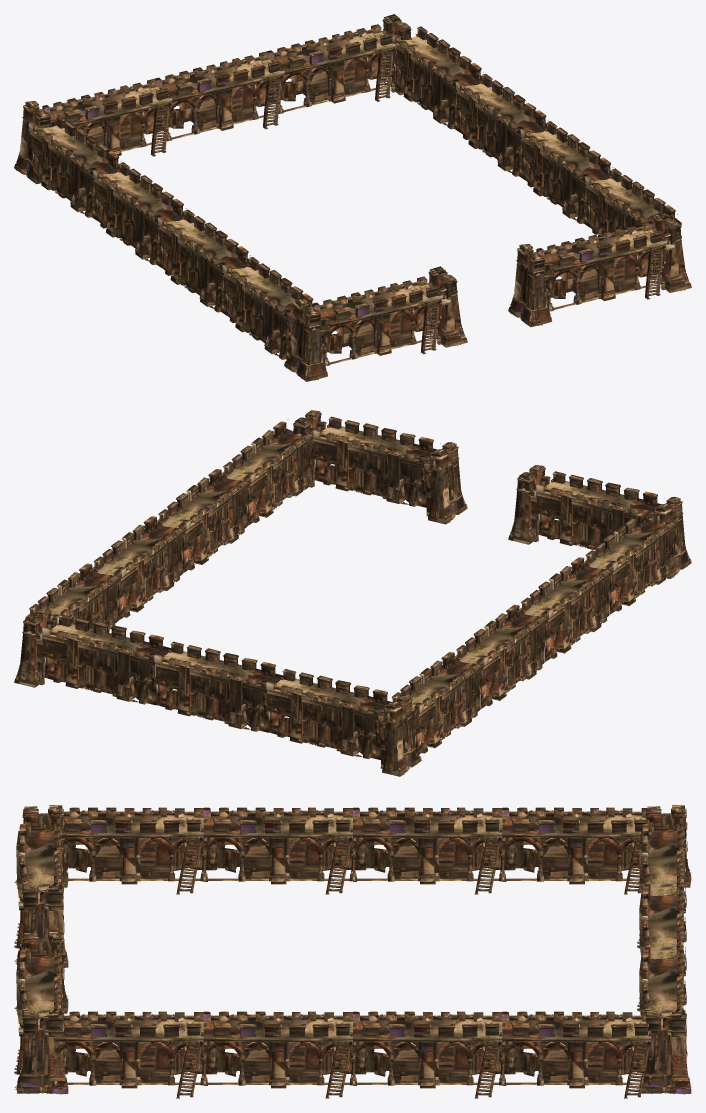
Rendered from FortifiedCityWalls.fbx.
3 renders of one model, top to bottom at view 1: azimuth 30°, elevation 25°; view 2: azimuth 150°, elevation 25°; view 3: azimuth 270°, elevation 25°, orthographic. The views are drawn at different scales.
Parts seen in each view (by area): view 1: CityWall_South_Body_00, CityWall_South_Body_01, CityWall_North_Body_00, CityWall_North_Body_02, CityWall_South_Body_02, CityWall_West_Body_02, CityWall_East_Body_01, CityWall_East_Body_02, CityWall_West_Body_01, CityWall_East_Body_00, CityWall_West_Body_00, CityWall_East_Body_03 (+7 smaller); view 2: CityWall_South_Body_01, CityWall_South_Body_00, CityWall_South_Body_02, CityWall_North_Body_00, CityWall_North_Body_02, CityWall_West_Body_01, CityWall_East_Body_02, CityWall_East_Body_01, CityWall_West_Body_02, CityWall_East_Body_03, CityWall_West_Body_03, CityWall_East_Body_00 (+7 smaller); view 3: CityWall_West_Body_01, CityWall_East_Body_01, CityWall_East_Body_02, CityWall_West_Body_02, CityWall_West_Body_00, CityWall_West_Body_03, CityWall_East_Body_03, CityWall_East_Body_00, CityWall_North_WestPier, CityWall_South_WestPier, CityWall_South_Body_01, CityWall_South_Body_02 (+7 smaller).
Part boxes in pixels (x1,y1,x2,y2): CityWall_South_Body_00: (266, 24, 396, 113); CityWall_South_Body_01: (154, 51, 284, 140); CityWall_North_Body_00: (536, 222, 666, 311); CityWall_North_Body_02: (312, 276, 442, 365); CityWall_South_Body_02: (42, 79, 172, 156); CityWall_West_Body_02: (520, 121, 613, 227); CityWall_East_Body_01: (93, 162, 186, 267); CityWall_East_Body_02: (158, 209, 250, 315); CityWall_West_Body_01: (456, 74, 548, 179); CityWall_East_Body_00: (28, 115, 121, 220); CityWall_West_Body_00: (392, 26, 483, 132); CityWall_East_Body_03: (222, 257, 315, 362); CityWall_South_Body_01: (154, 641, 283, 732); CityWall_South_Body_00: (42, 614, 171, 705); CityWall_South_Body_02: (266, 669, 391, 759); CityWall_North_Body_00: (312, 416, 440, 507); CityWall_North_Body_02: (536, 471, 664, 549); CityWall_West_Body_01: (92, 514, 186, 620); CityWall_East_Body_02: (519, 555, 613, 661); CityWall_East_Body_01: (454, 602, 548, 709); CityWall_West_Body_02: (157, 466, 251, 573); CityWall_East_Body_03: (584, 507, 678, 614); CityWall_West_Body_03: (221, 419, 315, 526); CityWall_East_Body_00: (391, 649, 484, 756); CityWall_West_Body_01: (353, 1011, 502, 1098); CityWall_East_Body_01: (353, 807, 502, 894); CityWall_East_Body_02: (203, 807, 352, 894); CityWall_West_Body_02: (203, 1011, 352, 1098); CityWall_West_Body_00: (502, 1011, 651, 1098); CityWall_West_Body_03: (54, 1011, 203, 1098); CityWall_East_Body_03: (60, 807, 203, 894); CityWall_East_Body_00: (502, 807, 651, 894); CityWall_North_WestPier: (14, 1010, 68, 1094); CityWall_South_WestPier: (637, 1009, 691, 1094); CityWall_South_Body_01: (637, 883, 686, 1011); CityWall_South_Body_02: (637, 820, 686, 948).
Bounding box in the file's own units: 43.66 × 7 × 55.61.
